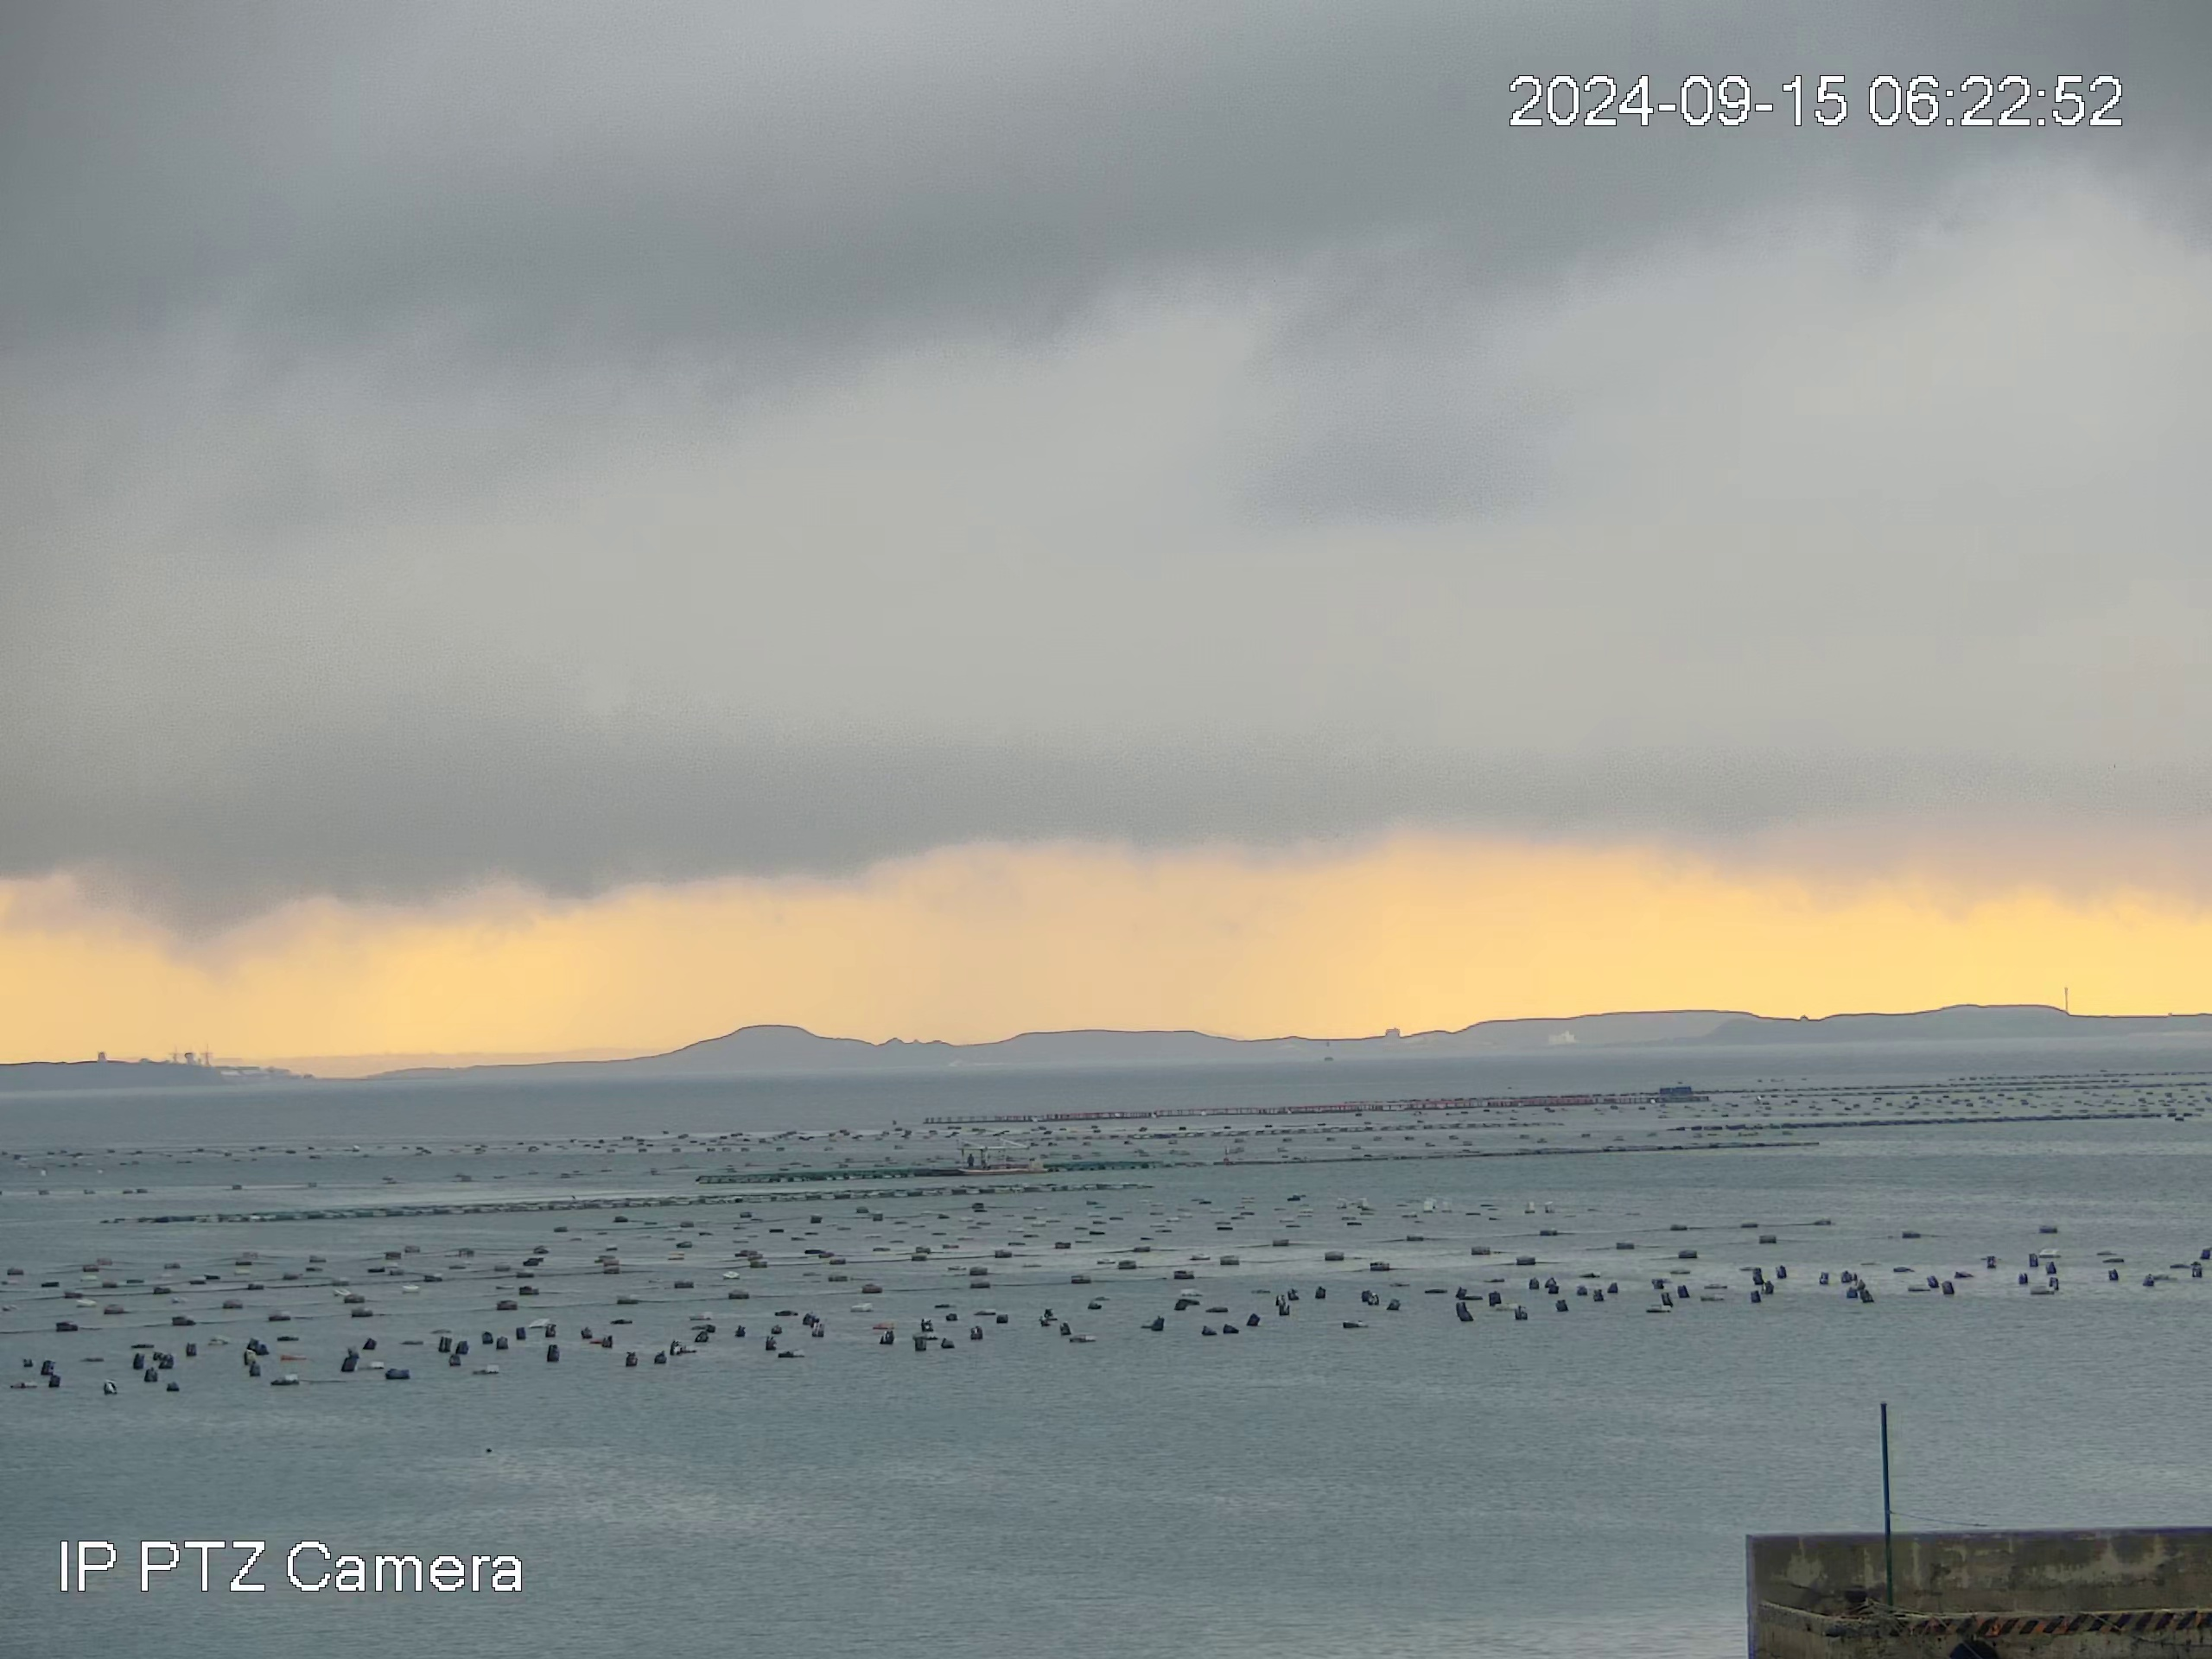boat: (960, 1136, 1049, 1176)
